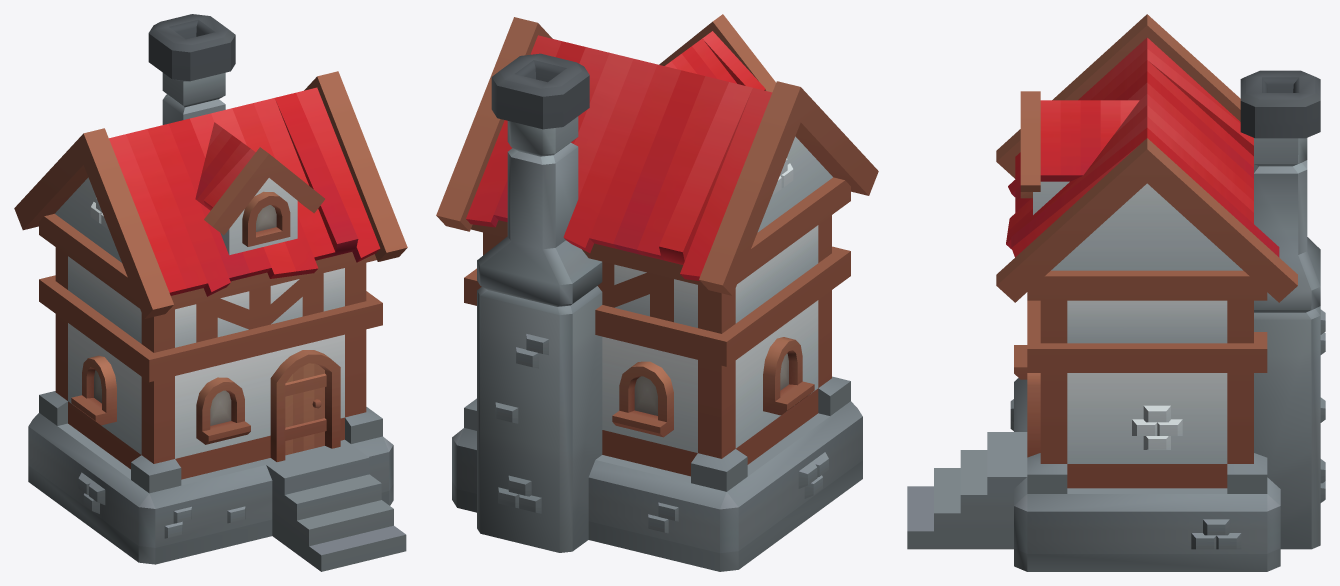
The model's file is k-home-b-kaykit.glb.
3 views of the same model, side by side, from view 1: azimuth 30°, elevation 25°; view 2: azimuth 150°, elevation 25°; view 3: azimuth 270°, elevation 25° (orthographic). The views are drawn at different scales.
Parts seen in each view (by area): view 1: building_home_B_red; view 2: building_home_B_red; view 3: building_home_B_red.
Part boxes in pixels (x1=…): building_home_B_red: x1=14, y1=14, x2=407, y2=571; building_home_B_red: x1=436, y1=14, x2=878, y2=571; building_home_B_red: x1=907, y1=14, x2=1325, y2=571.
Bounding box in the file's own units: 0.8749 × 1.28 × 1.1.
1 material, 1 textured.
